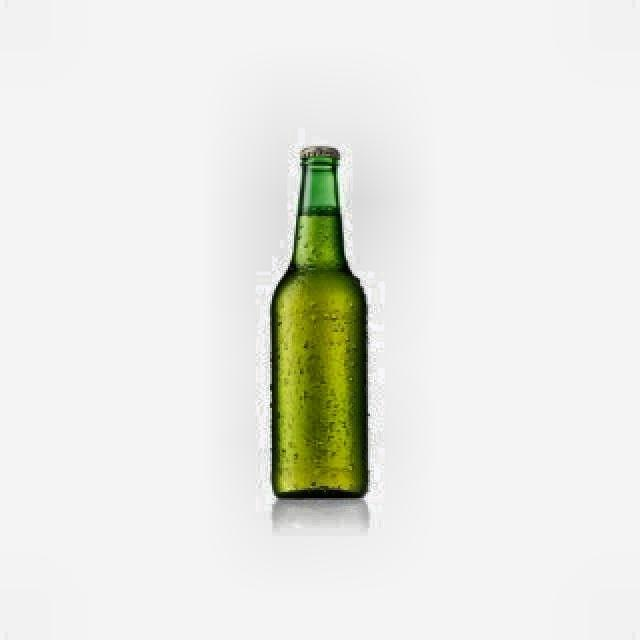glass: (270, 146, 369, 502)
